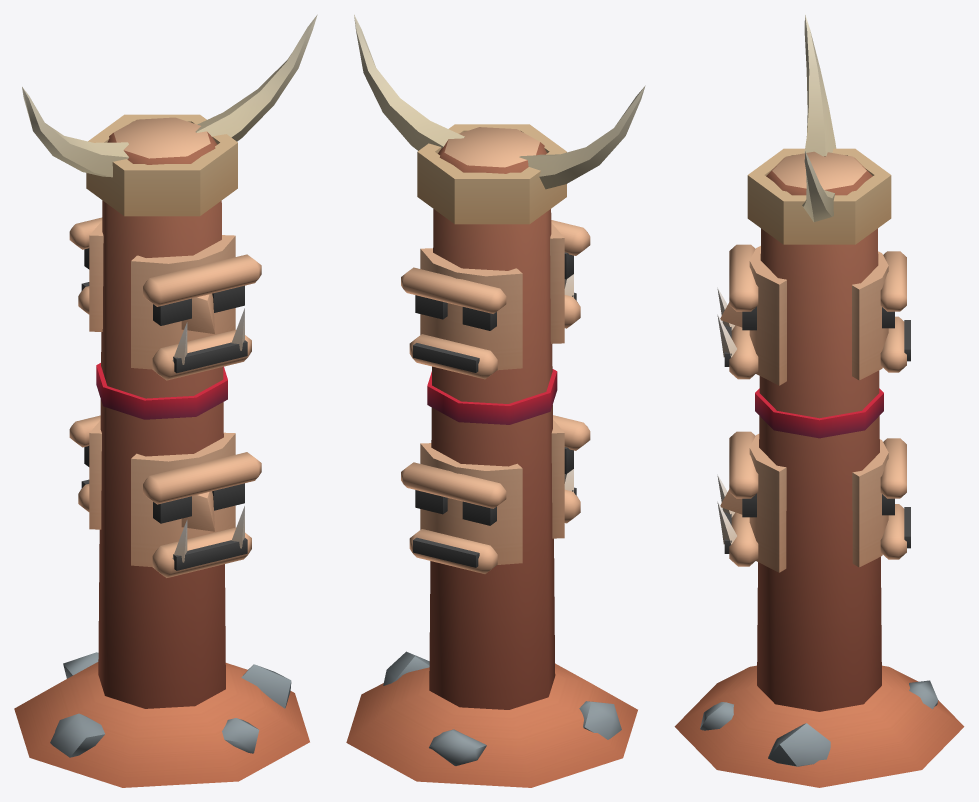
File: totem_B.fbx
3 views of the same model, side by side, from view 1: azimuth 30°, elevation 25°; view 2: azimuth 150°, elevation 25°; view 3: azimuth 270°, elevation 25° (orthographic). The views are drawn at different scales.
Visible parts, largest first — view 1: totem_B; view 2: totem_B; view 3: totem_B.
Boxes of the visible parts, x1=… form: totem_B: x1=14, y1=14, x2=317, y2=787; totem_B: x1=346, y1=14, x2=645, y2=787; totem_B: x1=674, y1=14, x2=964, y2=787.
Bounding box in the file's own units: 0.5642 × 1.27 × 0.506.
Materials: 1 (1 with a texture image).
